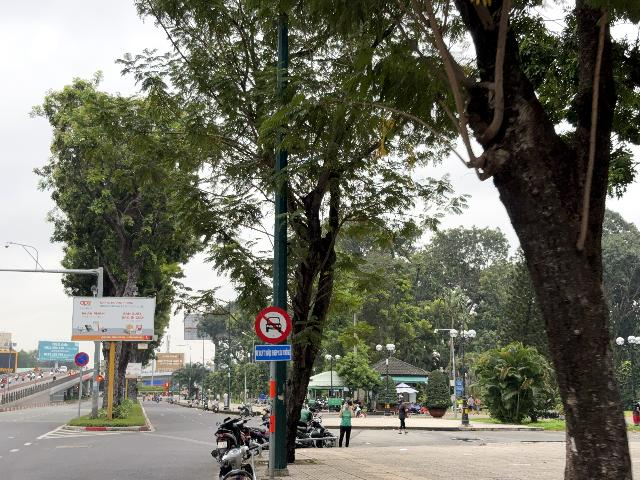cam-o-to: (255, 306, 292, 344)
